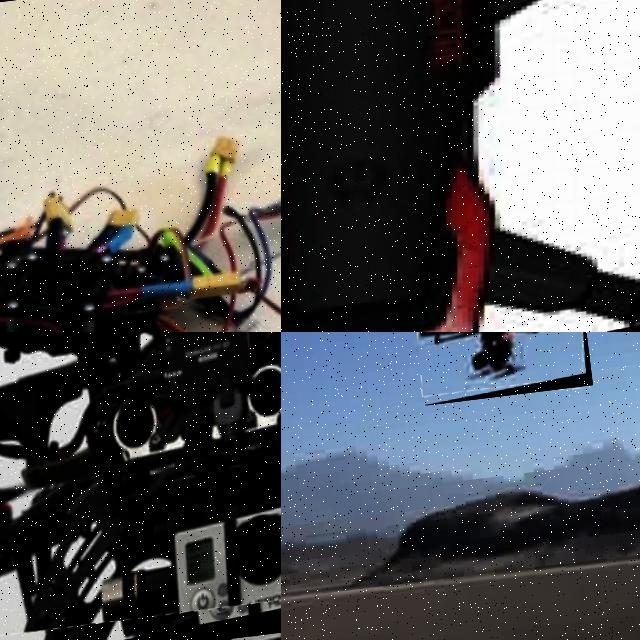0: (412, 332, 592, 405)
drone: (281, 0, 640, 332), (0, 0, 281, 332), (0, 332, 281, 640)
